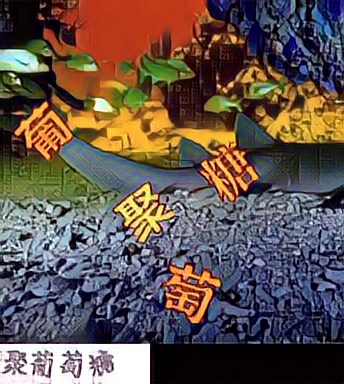BEDB: (115, 180, 179, 247)
C6CF: (12, 98, 76, 165)
CCC7: (196, 138, 260, 205)
CCD1: (158, 259, 222, 326)
